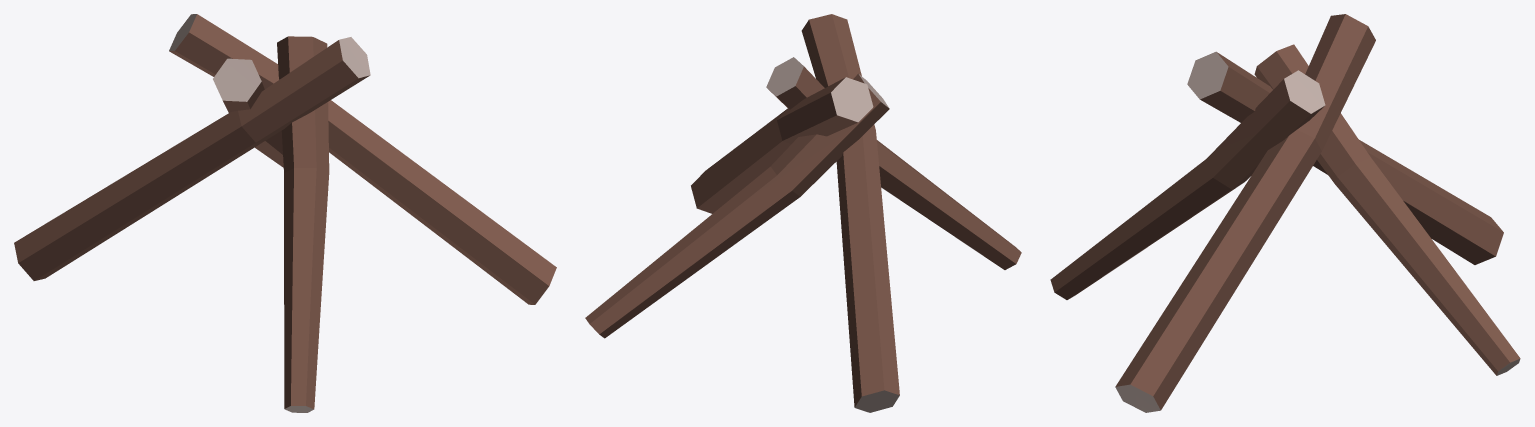
File: prop_009.fbx
The picture shows the model from 3 angles, left to right: view 1: azimuth 30°, elevation 25°; view 2: azimuth 150°, elevation 25°; view 3: azimuth 270°, elevation 25°; orthographic projection. The views are drawn at different scales.
Visible parts, largest first — view 1: prop.009; view 2: prop.009; view 3: prop.009.
Part boxes in pixels (x1,y1,x2,y2): prop.009: (14, 14, 556, 412); prop.009: (585, 14, 1021, 412); prop.009: (1050, 14, 1520, 412).
Size of the model in its own units: 161 by 120 by 170.
Materials: 1 (1 with a texture image).
